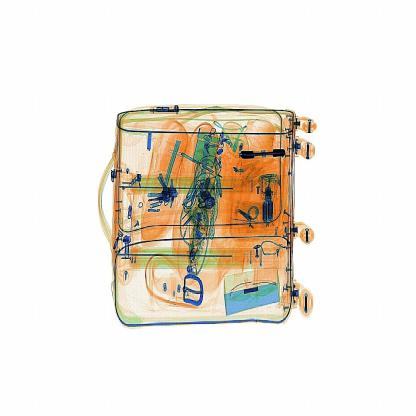knife: (240, 141, 287, 162)
